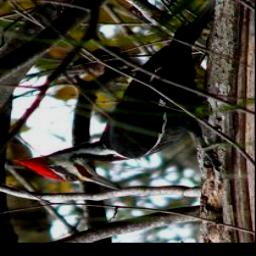Woodpecker: (15, 1, 228, 192)
